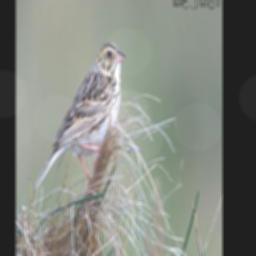Sparrow: (34, 39, 126, 190)
